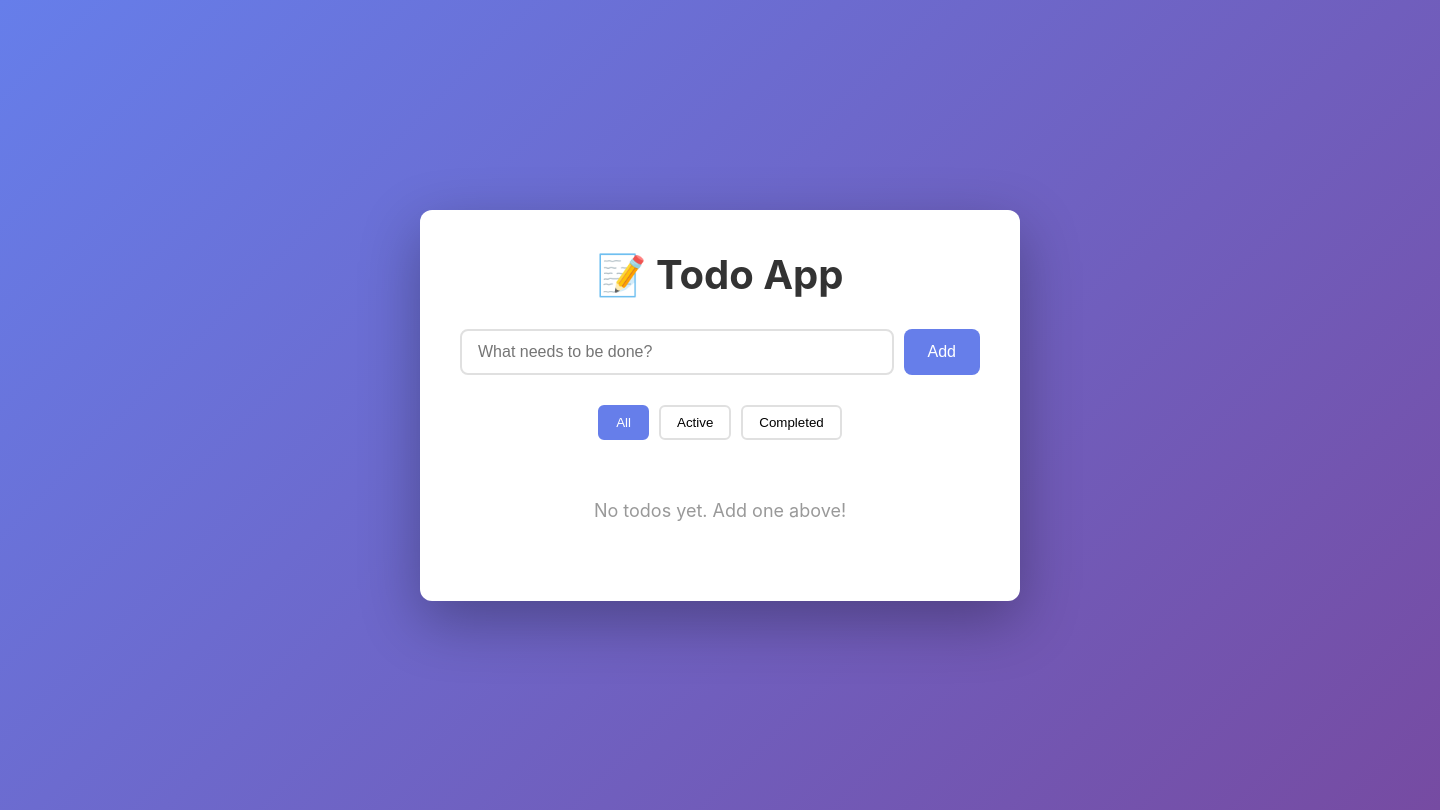
Scenario: App Component › deletes a todo
Type "Delete me" into the field with placeholder "What needs to be done?". click: (677, 352)
box: [460,328,894,374]
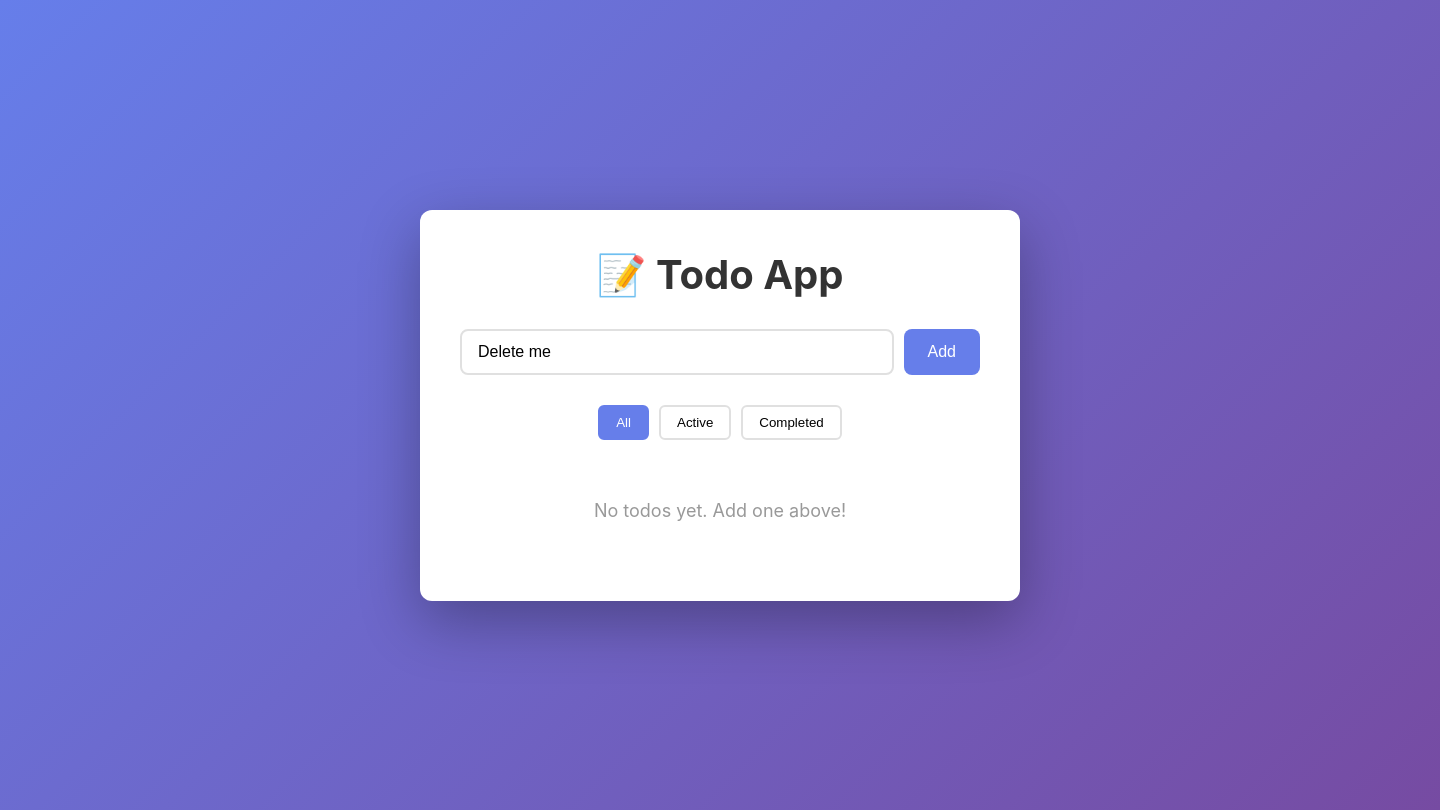
Click the button "Add". click: (942, 352)
box: [904,328,980,374]
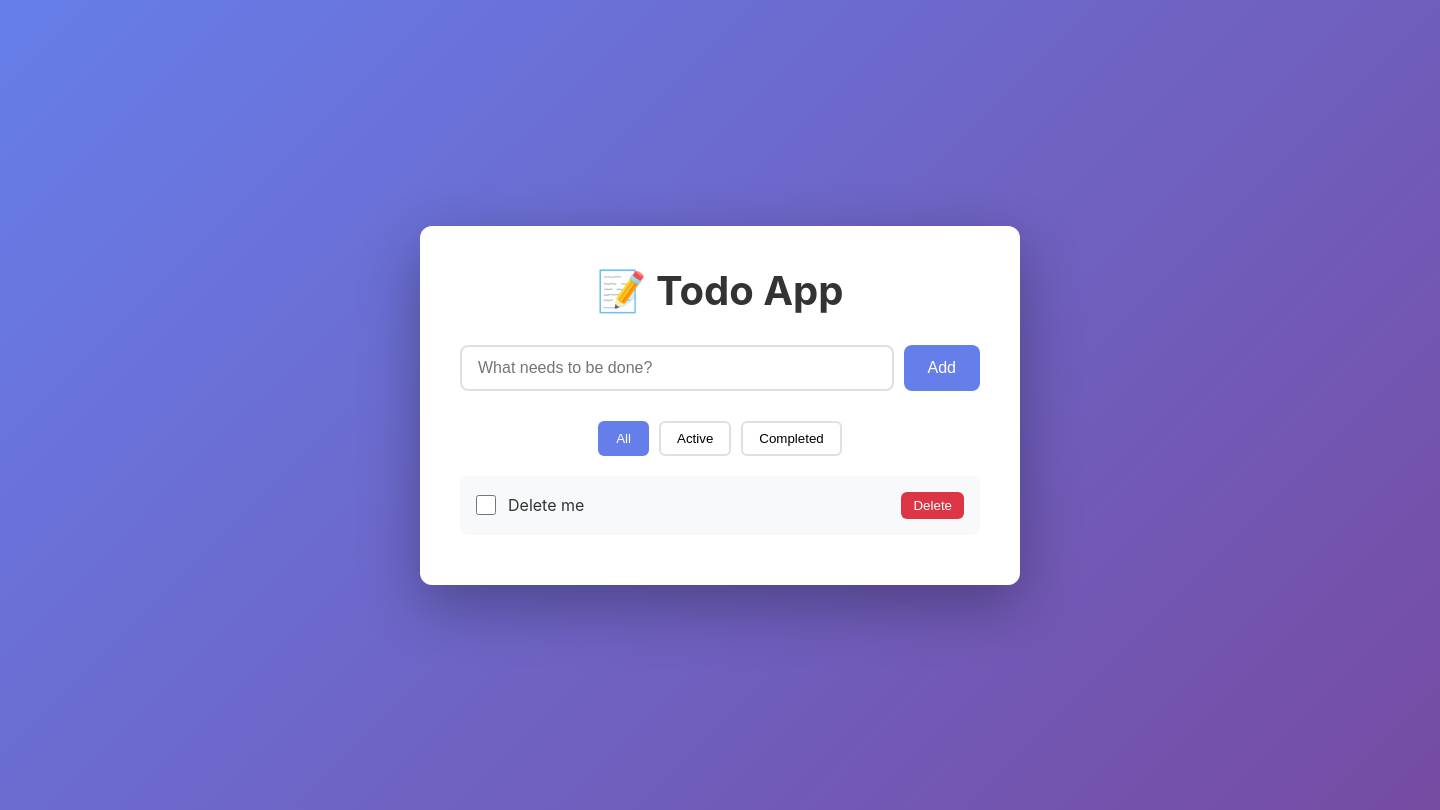
Now the text "Delete me" is shown, box [508,495,584,515]
Click the button with aria-label "delete todo". click: (933, 505)
box: [902,492,964,518]
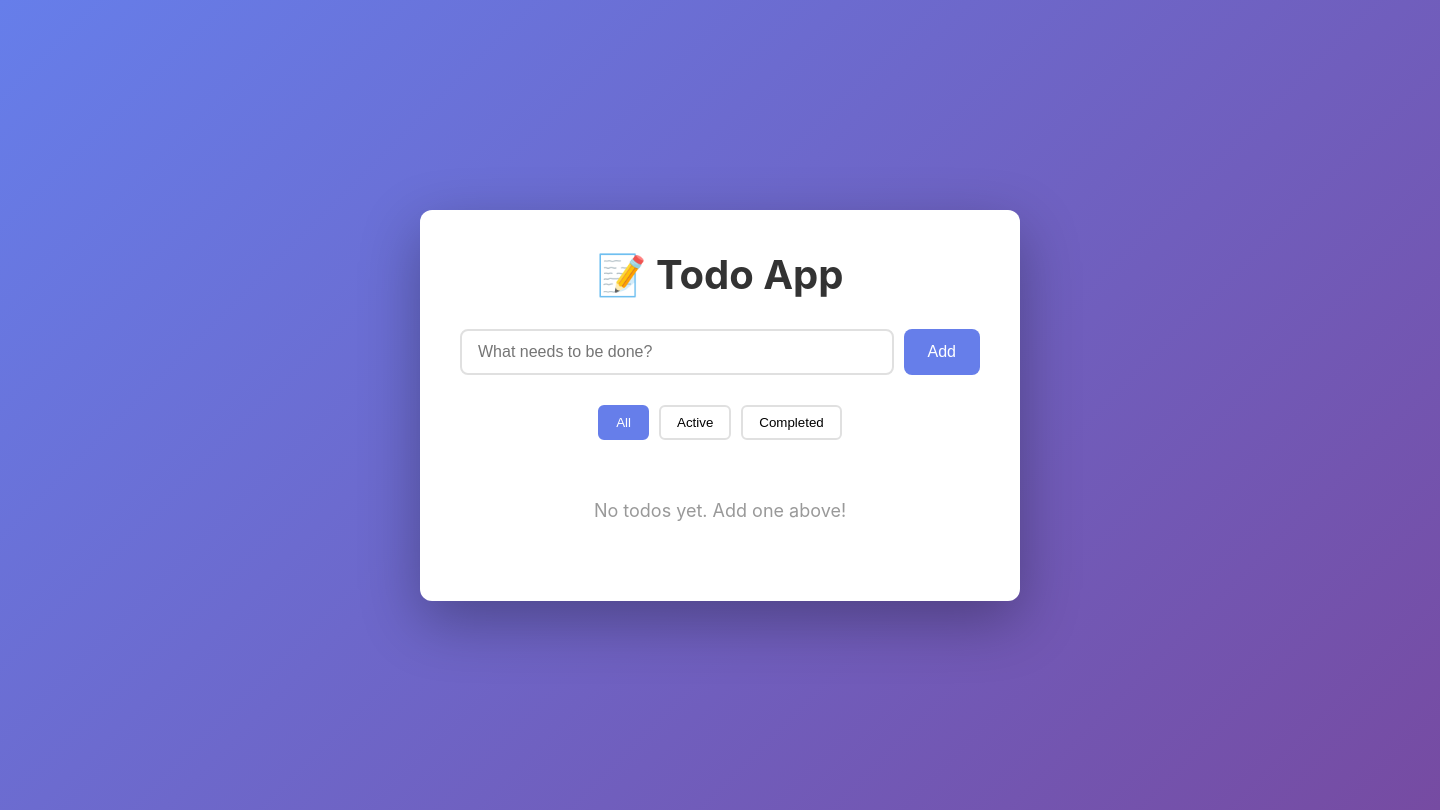
Now the text "Delete me" is gone
